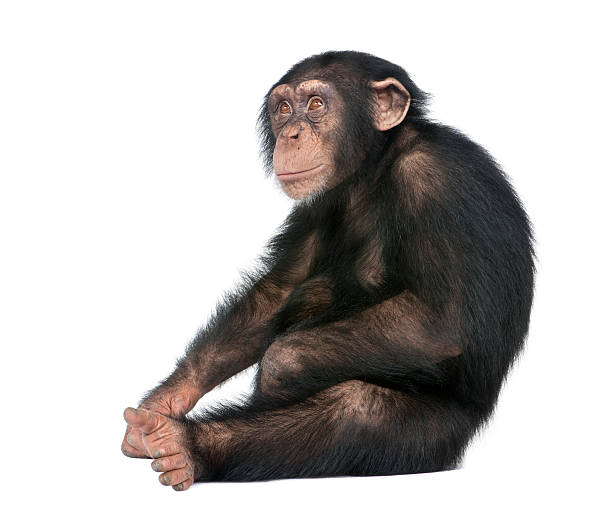chimpanzee: (215, 43, 440, 225)
